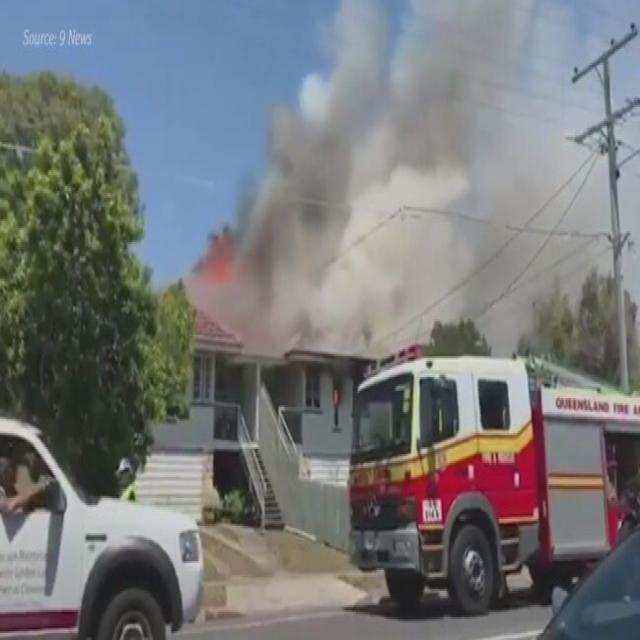Smoke: (301, 98, 467, 341)
